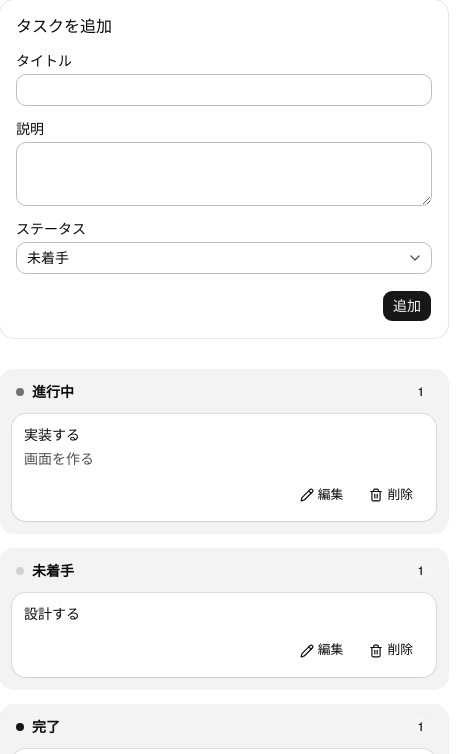
Test: 追加 › 追加に失敗したときはエラーが表示され、入力内容は残る
The width and height of the screenshot is (466, 754).
Type "調査する" into the field labelled "タイトル" at (224, 90), box [16,74,432,106]
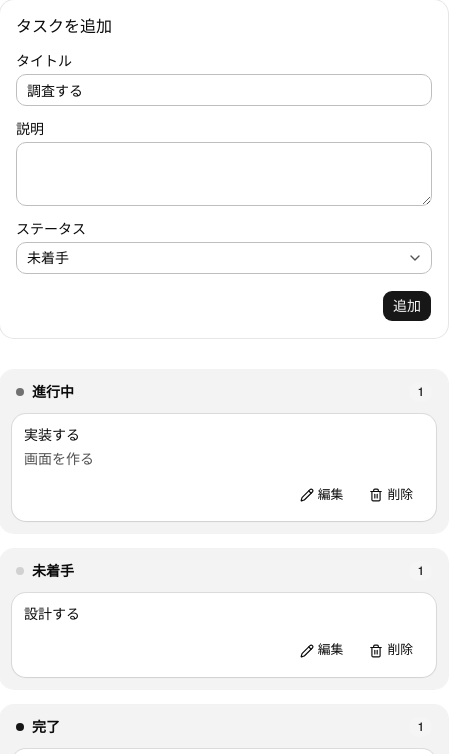
Click the button "追加" at (407, 306), box [382,290,432,322]
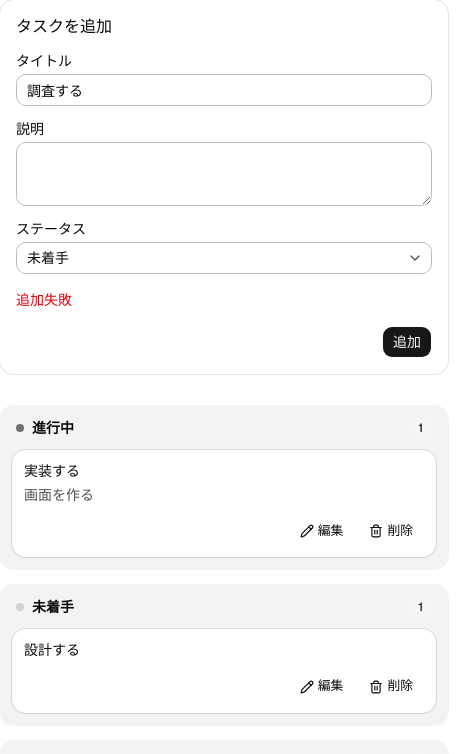
Expected: the message reads "追加失敗", [16,291,72,309]
